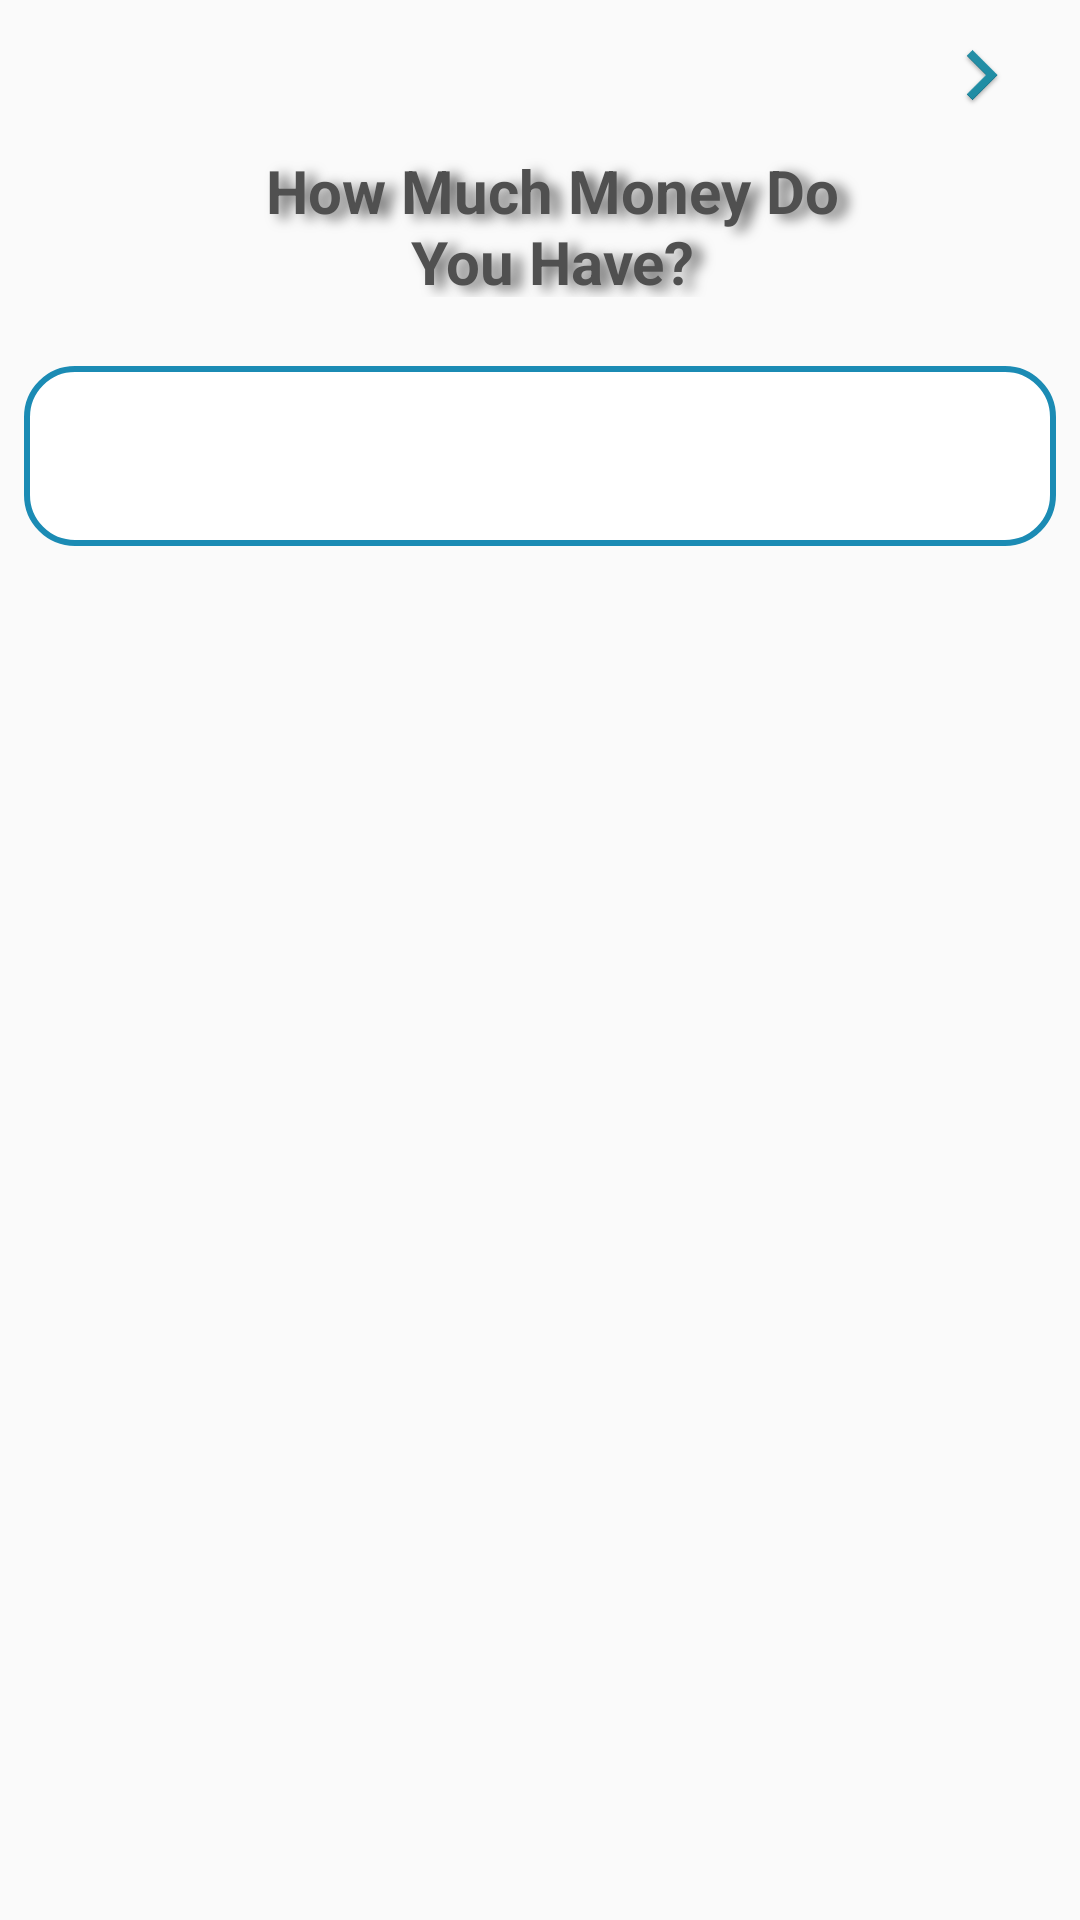

Where to tap for icons on this 1080 x 1920 app screen, as [x,y]:
next: [982,76]
